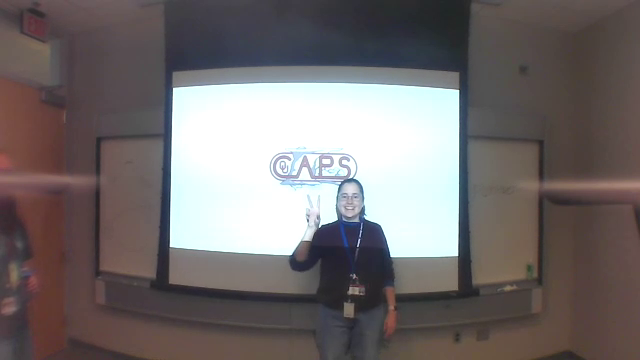peace: (301, 190, 327, 228)
